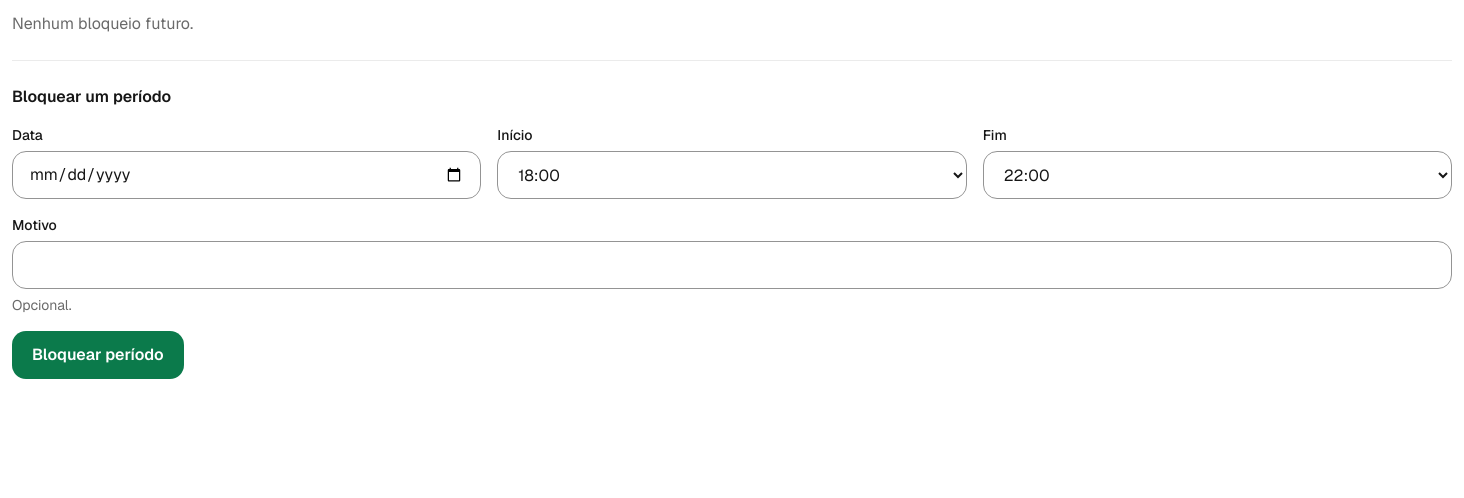
Scenario: BlocksEditor › creates a block with the São Paulo offset of that date
The width and height of the screenshot is (1464, 498).
Type "2026-10-31" into the date field labelled "Data". click: (247, 175)
box: [12,151,481,199]
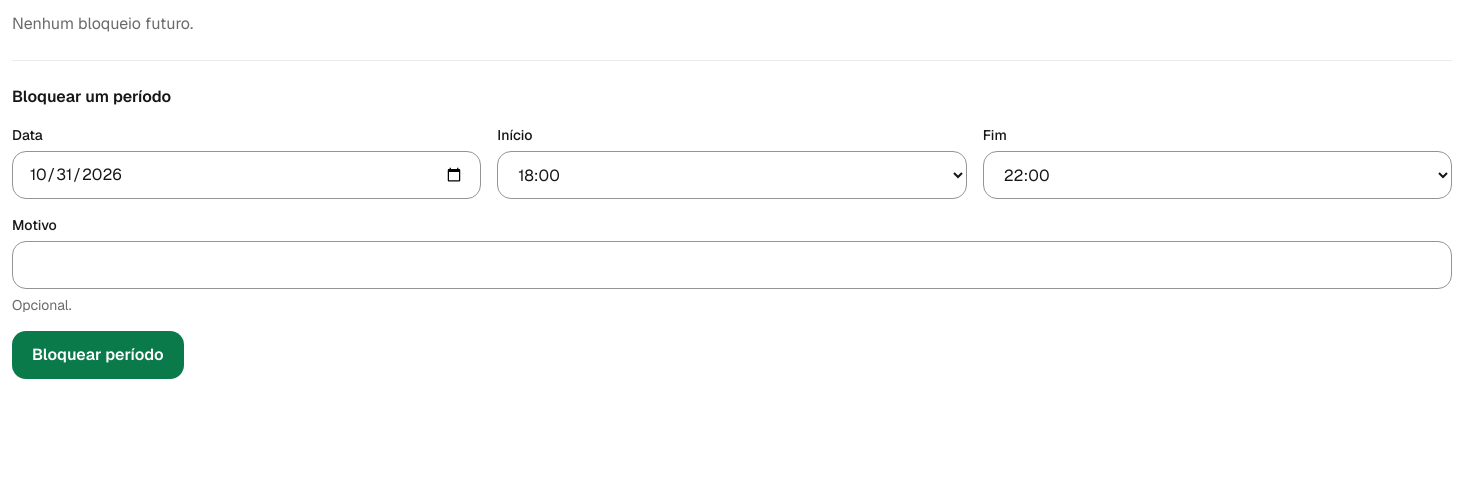
Select "18:00" in the dropdown labelled "Início". click: (732, 175)
box: [497,151,967,199]
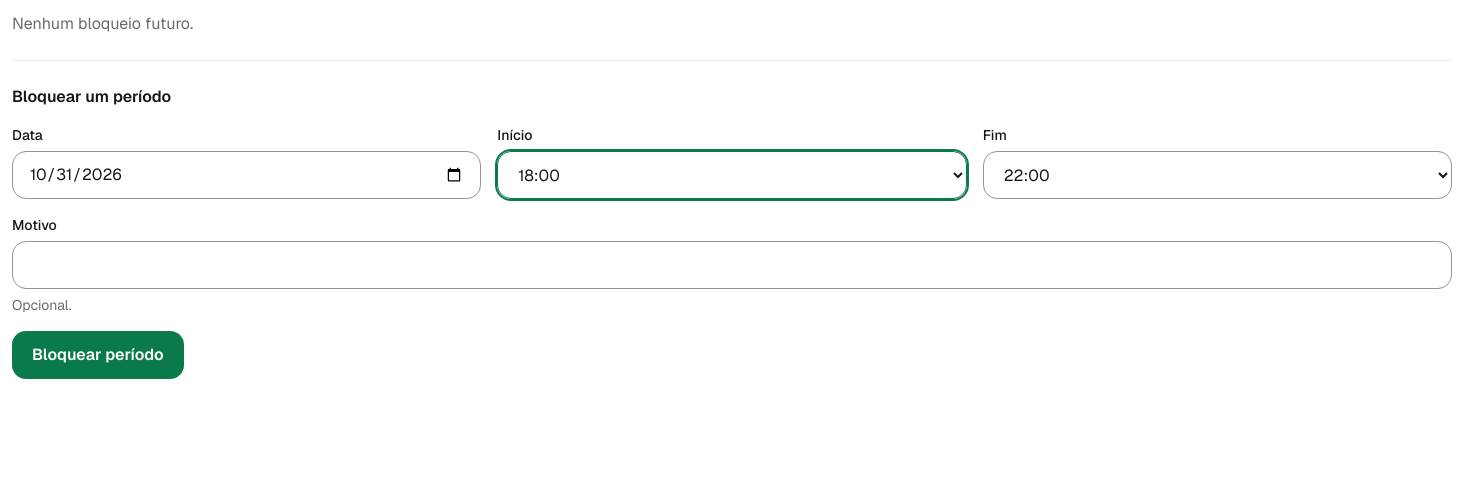
Select "22:00" in the dropdown labelled "Fim". click: (1217, 175)
box: [983,151,1452,199]
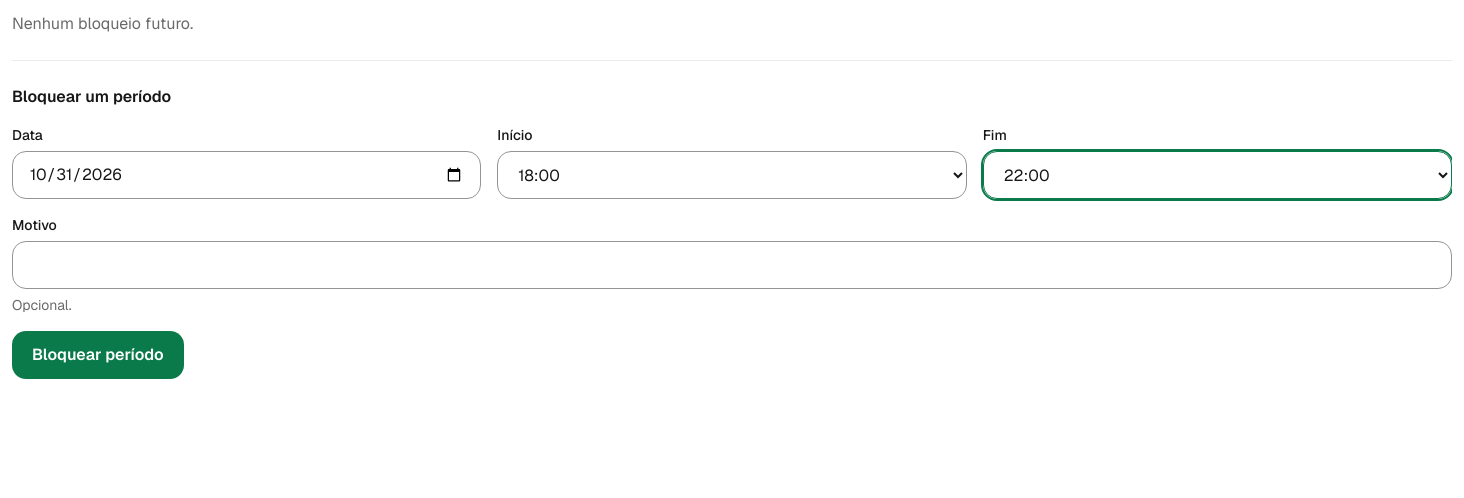
Type "  Torneio " into the field labelled "Motivo". click: (732, 265)
box: [12,241,1452,289]
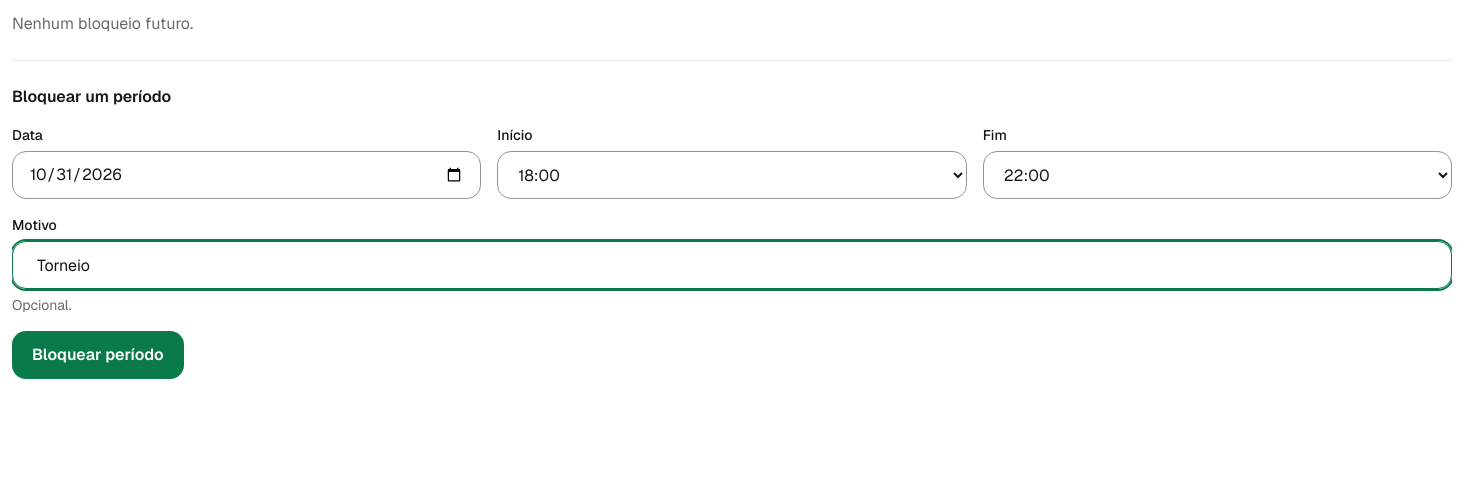
Click the button "Bloquear período". click: (98, 355)
box: [12,331,184,379]
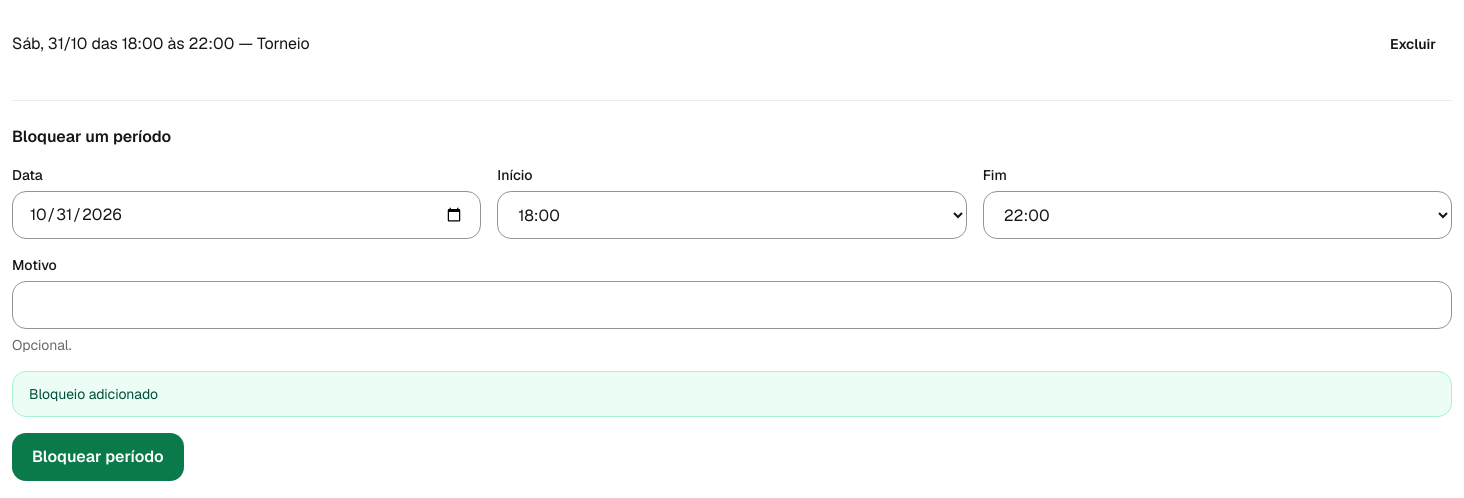
Expected: the message reads "Bloqueio adicionado", [29,385,158,403]
Expected: the text "Sáb, 31/10 das 18:00 às 22:00 — Torneio" is shown, [12,32,310,56]
Expected: the text "Nenhum bloqueio futuro." is gone
